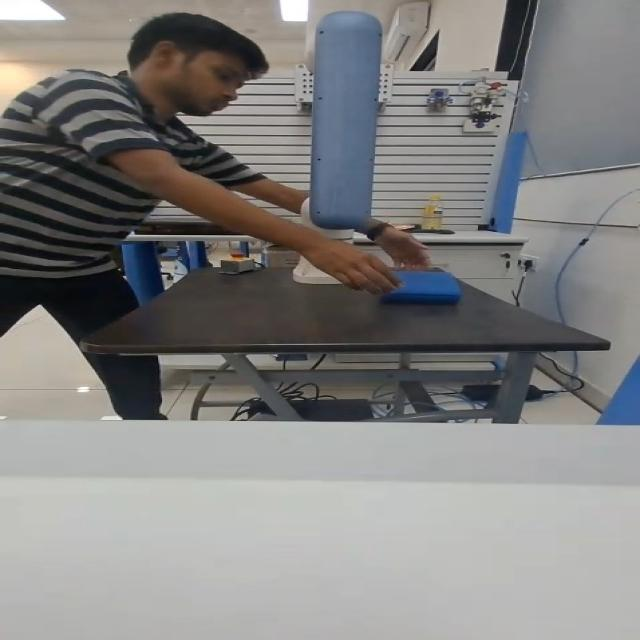top-surface: (392, 272, 454, 286)
